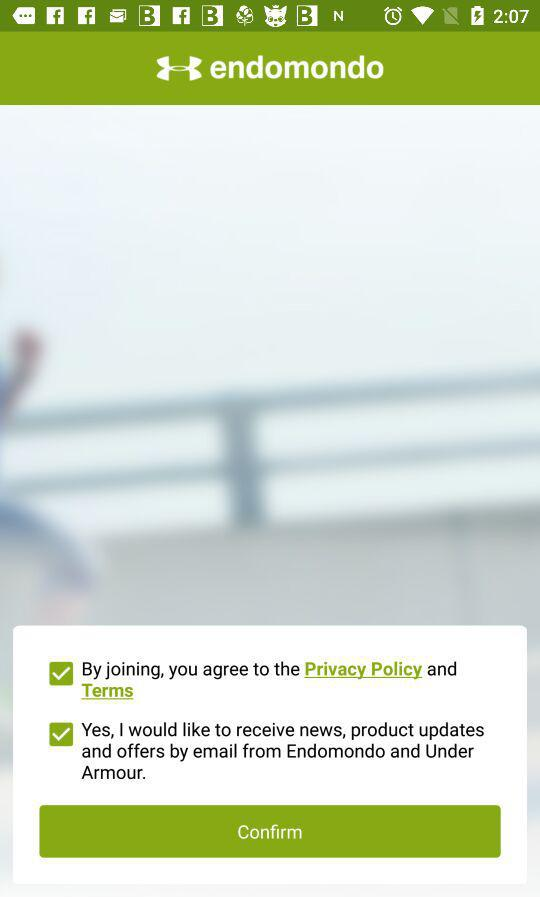CheckedTextView: (49, 721, 485, 781), (50, 660, 457, 702)
Image: (156, 54, 385, 83)
Text: (82, 721, 485, 780), (80, 660, 457, 701)
TextButton: (40, 805, 502, 859)
UpperTaskBar: (1, 1, 540, 33)
